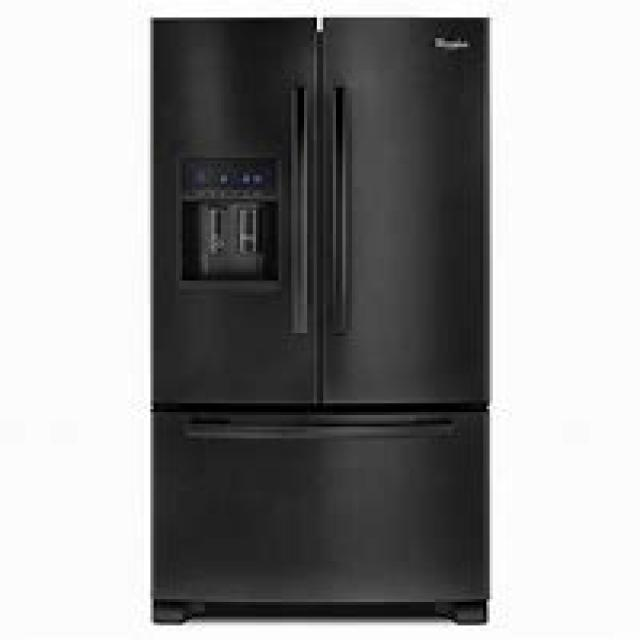fridge: (147, 14, 490, 626)
